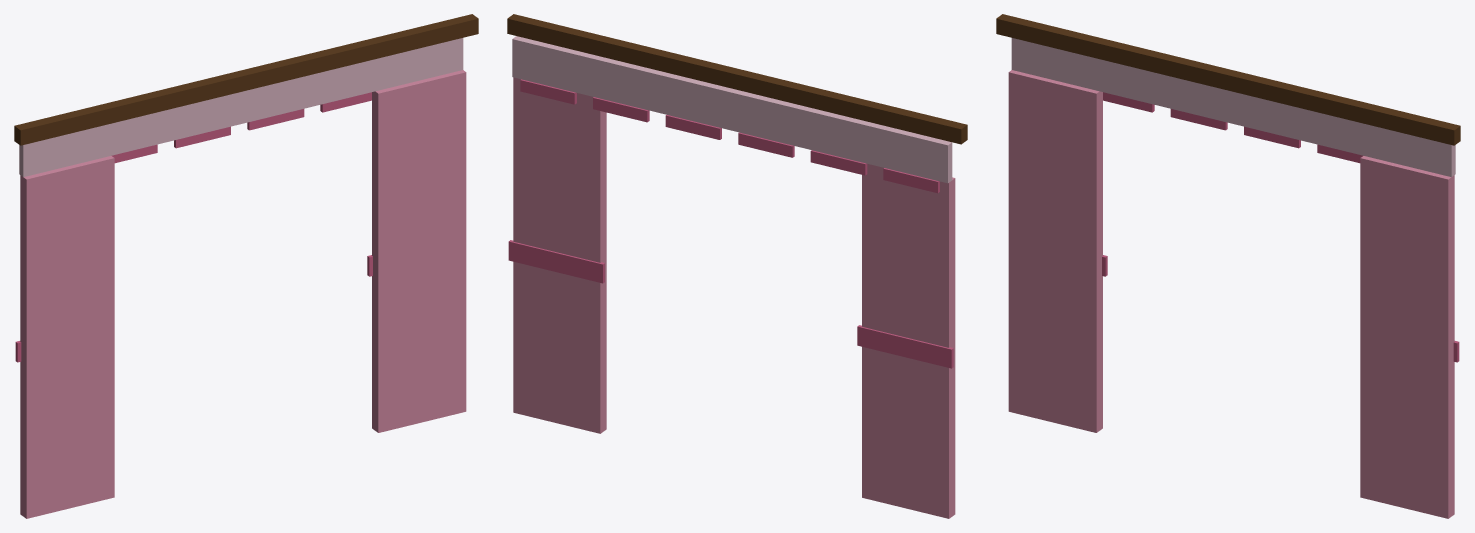
File: ncb-curtains-pink.glb
3 views of the same model, side by side, from view 1: azimuth 30°, elevation 25°; view 2: azimuth 150°, elevation 25°; view 3: azimuth 330°, elevation 25° (orthographic).
Visible parts, largest first — view 1: box-prop; view 2: box-prop; view 3: box-prop.
Boxes of the visible parts, x1,y1,x2,y2 form: box-prop: [14, 14, 478, 518]; box-prop: [507, 14, 967, 518]; box-prop: [996, 14, 1460, 518].
Size of the model in its own units: 2.5 by 2.05 by 0.11.
